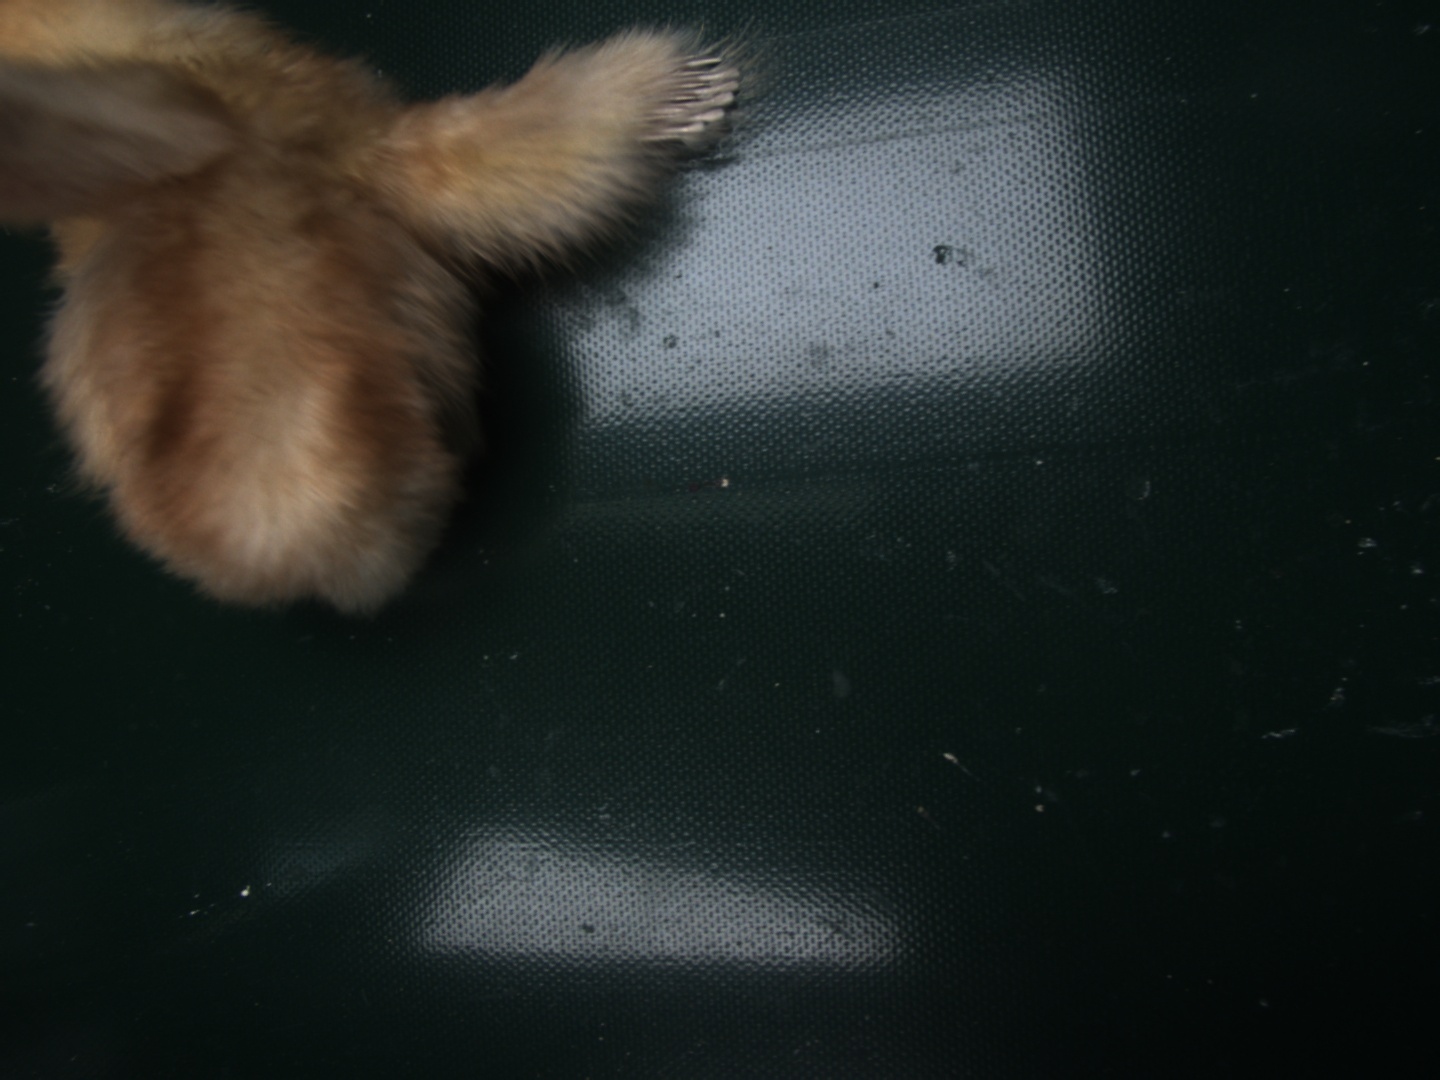female: (643, 51, 742, 144)
